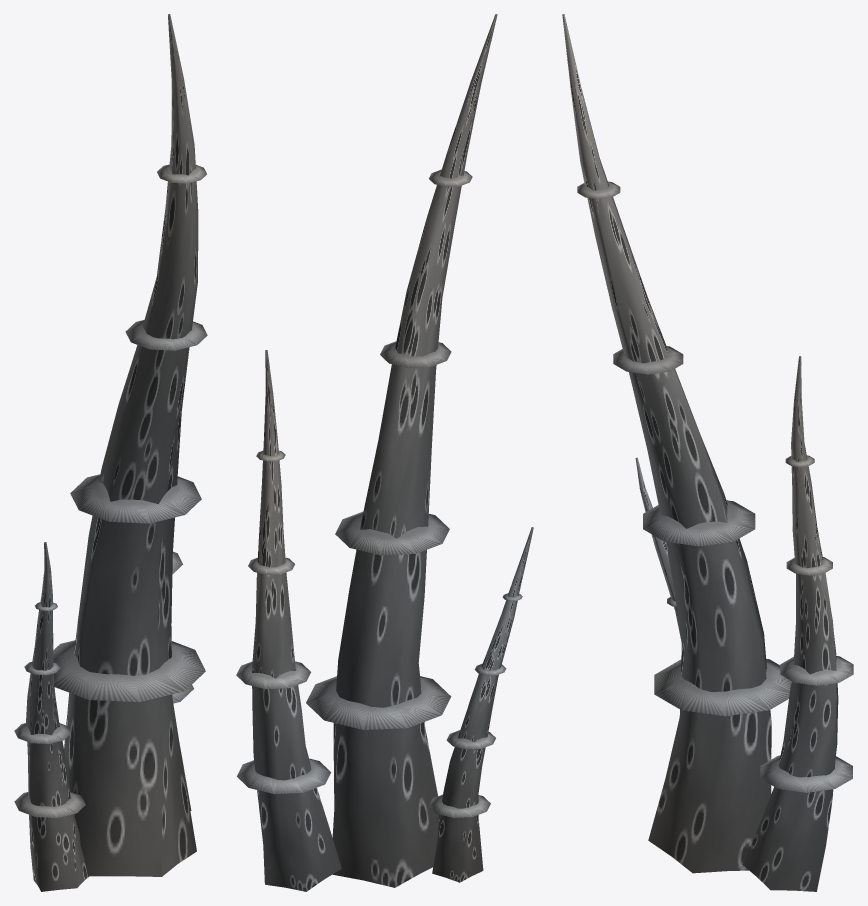
File: spire_ringed_l0.gltf
3 views of the same model, side by side, from view 1: azimuth 30°, elevation 25°; view 2: azimuth 150°, elevation 25°; view 3: azimuth 270°, elevation 25° (orthographic). The views are drawn at different scales.
Parts seen in each view (by area): view 1: spire_ringed_l0; view 2: spire_ringed_l0; view 3: spire_ringed_l0.
Part boxes in pixels (left/top/right/bottom): spire_ringed_l0: left=14, top=14, right=207, bottom=891; spire_ringed_l0: left=236, top=14, right=533, bottom=891; spire_ringed_l0: left=562, top=14, right=853, bottom=891.
Size of the model in its own units: 2.15 by 7.98 by 2.56.
1 material, 1 textured.
